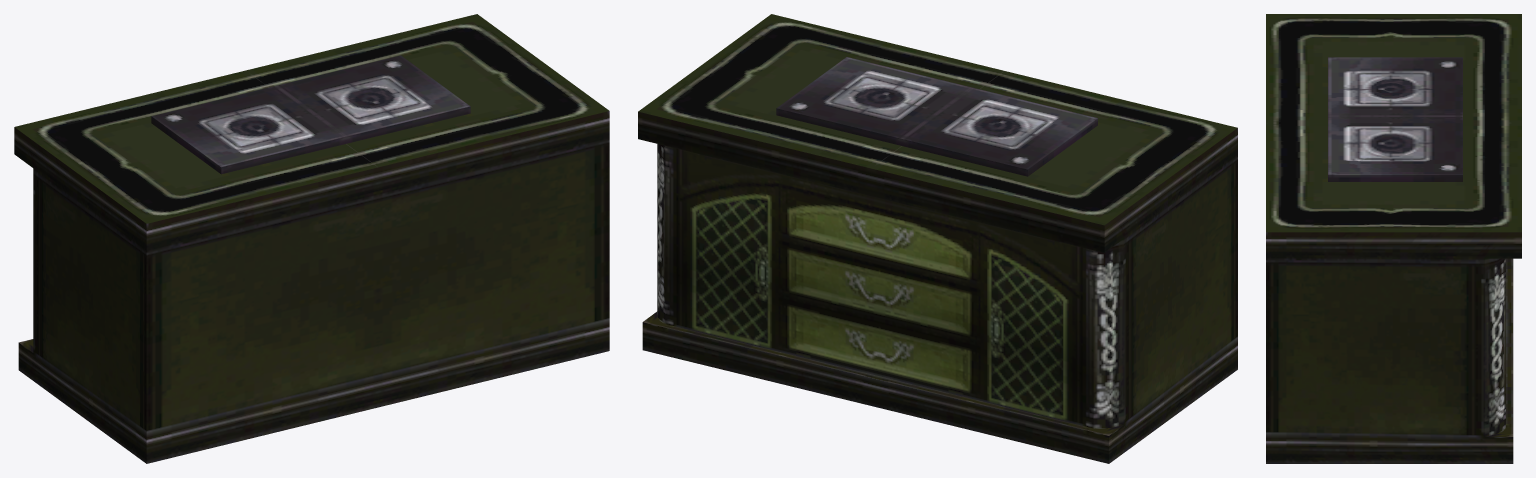
Rendered from furni_0201224_03.FBX.
3 renders of one model, left to right at view 1: azimuth 30°, elevation 25°; view 2: azimuth 150°, elevation 25°; view 3: azimuth 270°, elevation 25°, orthographic. The views are drawn at different scales.
Visible parts, largest first — view 1: furni_0201224_03; view 2: furni_0201224_03; view 3: furni_0201224_03.
Boxes of the visible parts, <box> form: furni_0201224_03: <box>14,14,609,463</box>; furni_0201224_03: <box>638,14,1237,463</box>; furni_0201224_03: <box>1266,14,1521,463</box>.
Size of the model in its own units: 161 by 82.34 by 80.
